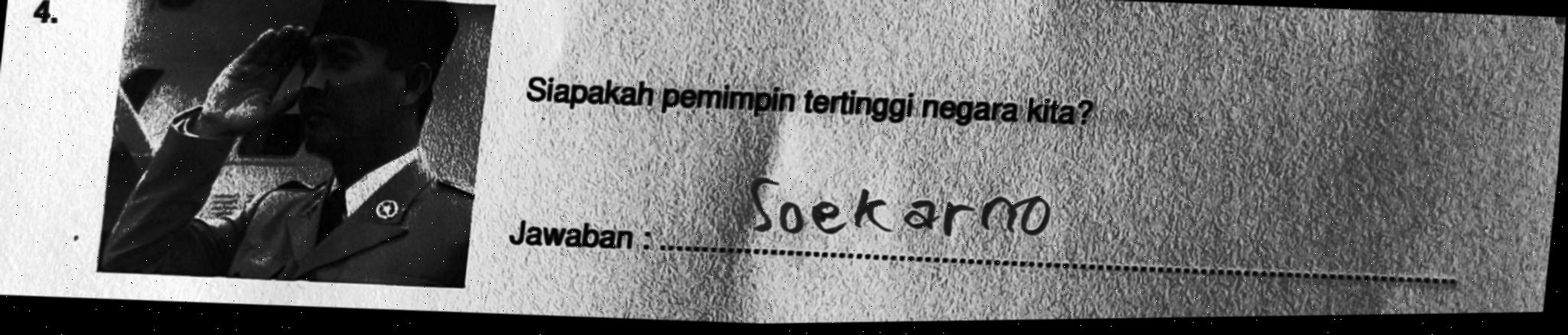jawaban: (738, 173, 1065, 241)
